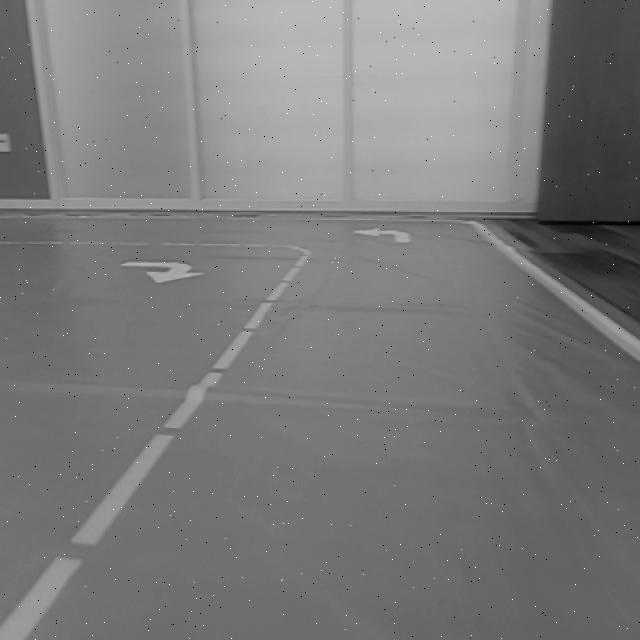left_lane: (0, 253, 311, 640)
right_lane: (469, 223, 640, 366)
